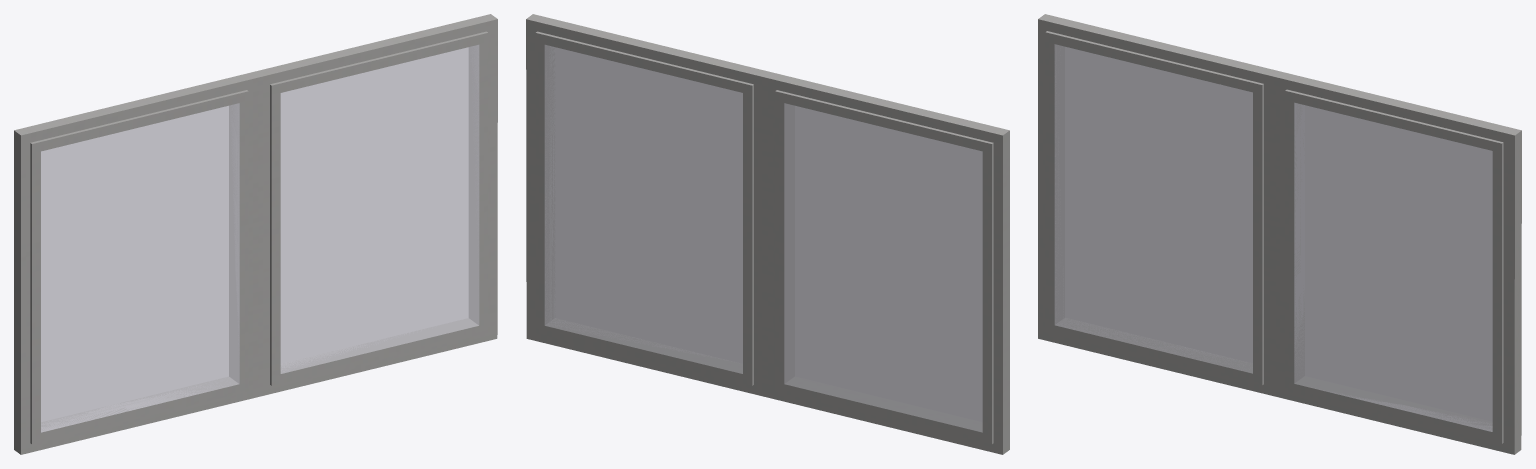
Rendered from windows_2.dae.
3 views of the same model, side by side, from view 1: azimuth 30°, elevation 25°; view 2: azimuth 150°, elevation 25°; view 3: azimuth 330°, elevation 25° (orthographic).
Visible parts, largest first — view 1: sklo_4, okna; view 2: sklo_4, okna; view 3: sklo_4, okna.
Part boxes in pixels (box(x1,y1,x2,y2)): sklo_4: box(41, 44, 479, 432); okna: box(14, 14, 497, 454); sklo_4: box(544, 44, 982, 432); okna: box(526, 14, 1009, 454); sklo_4: box(1054, 44, 1492, 431); okna: box(1038, 14, 1521, 454).
Size of the model in its own units: 3.12 by 0.12 by 2.
Materials: 2 (1 with a texture image).
